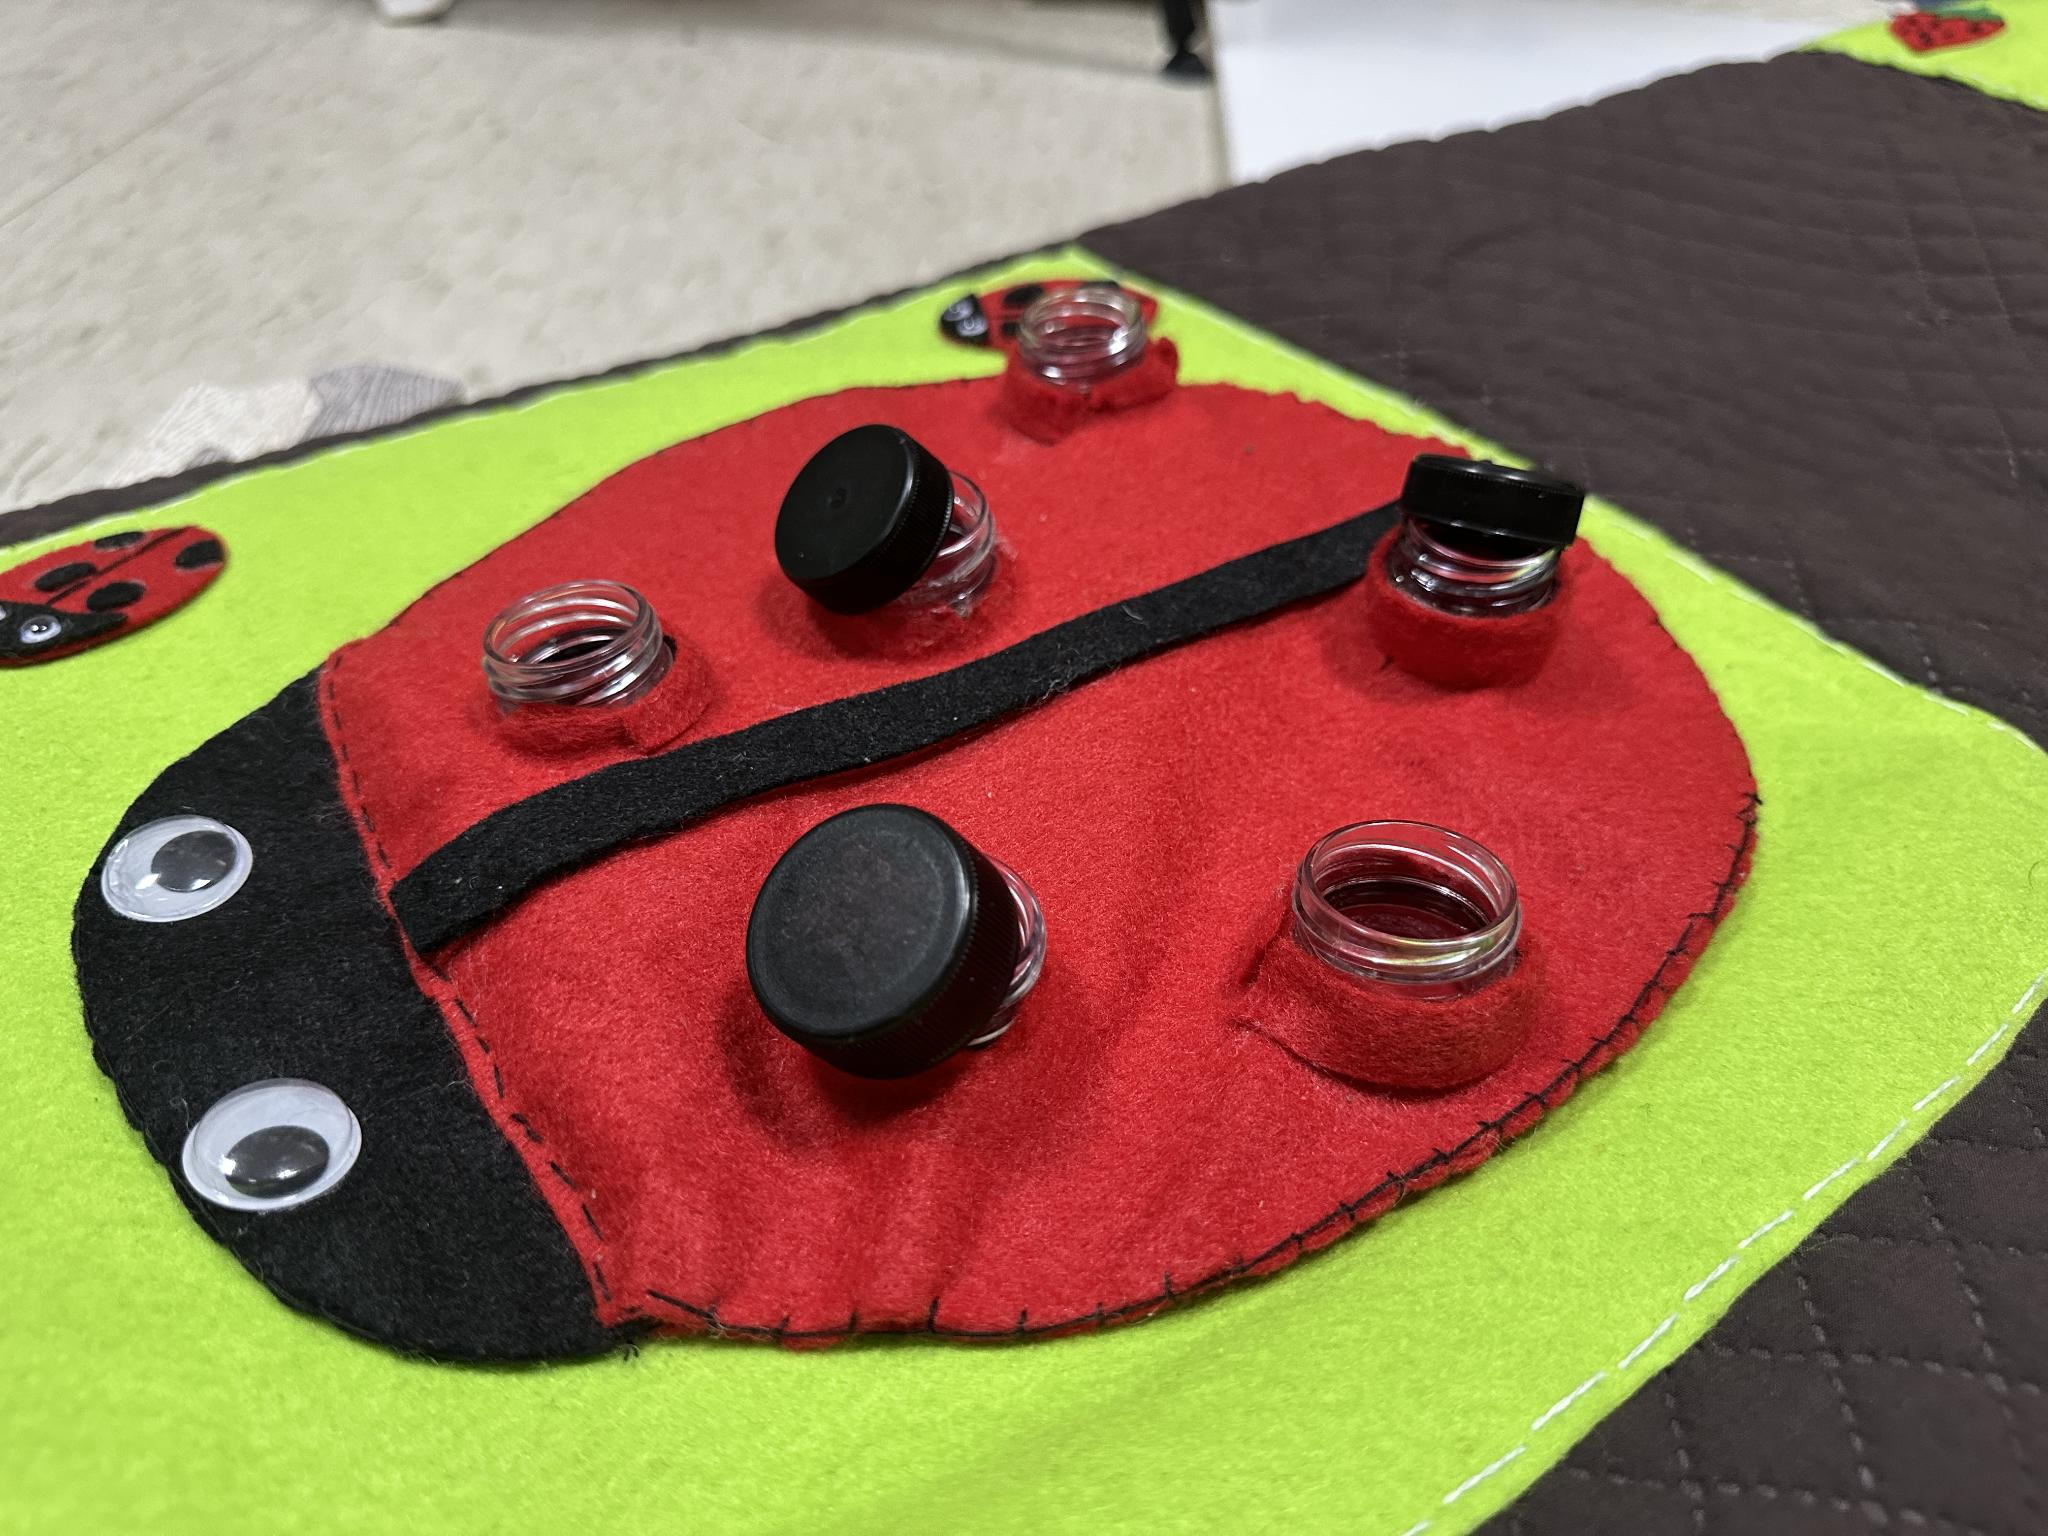cap_ng: (724, 800, 1084, 1092), (1377, 431, 1592, 720), (755, 426, 1034, 647)
